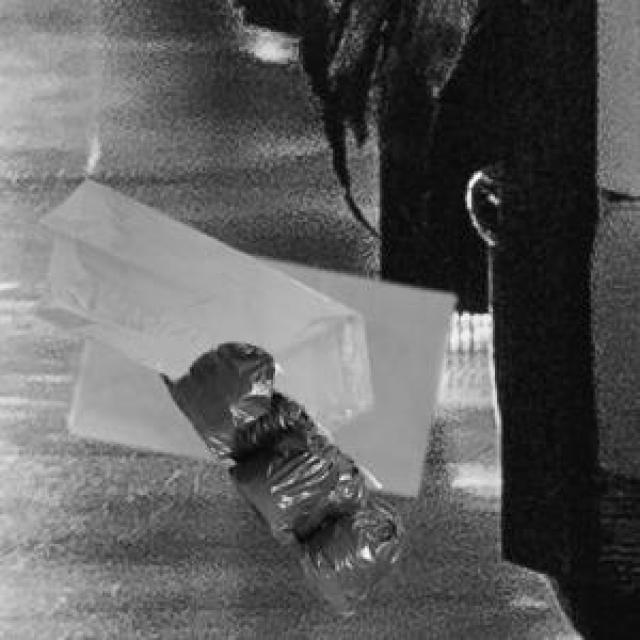miscellaneous trash: (158, 339, 401, 612)
paper: (64, 256, 450, 491)
